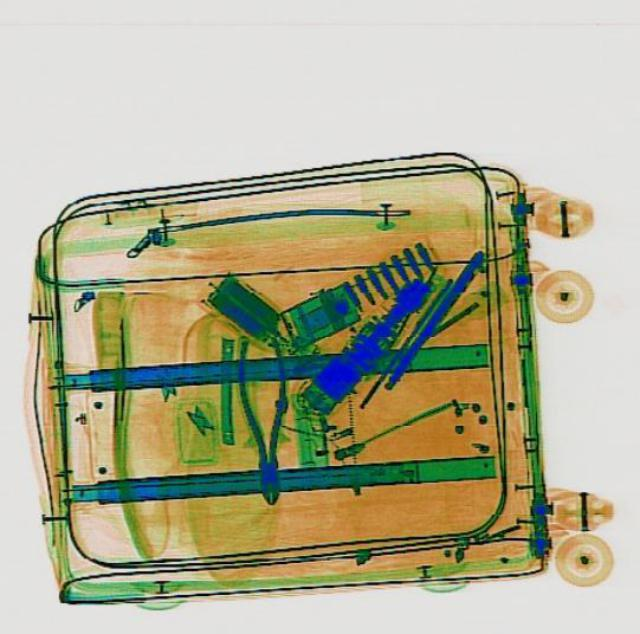Pliers: (233, 331, 293, 504)
